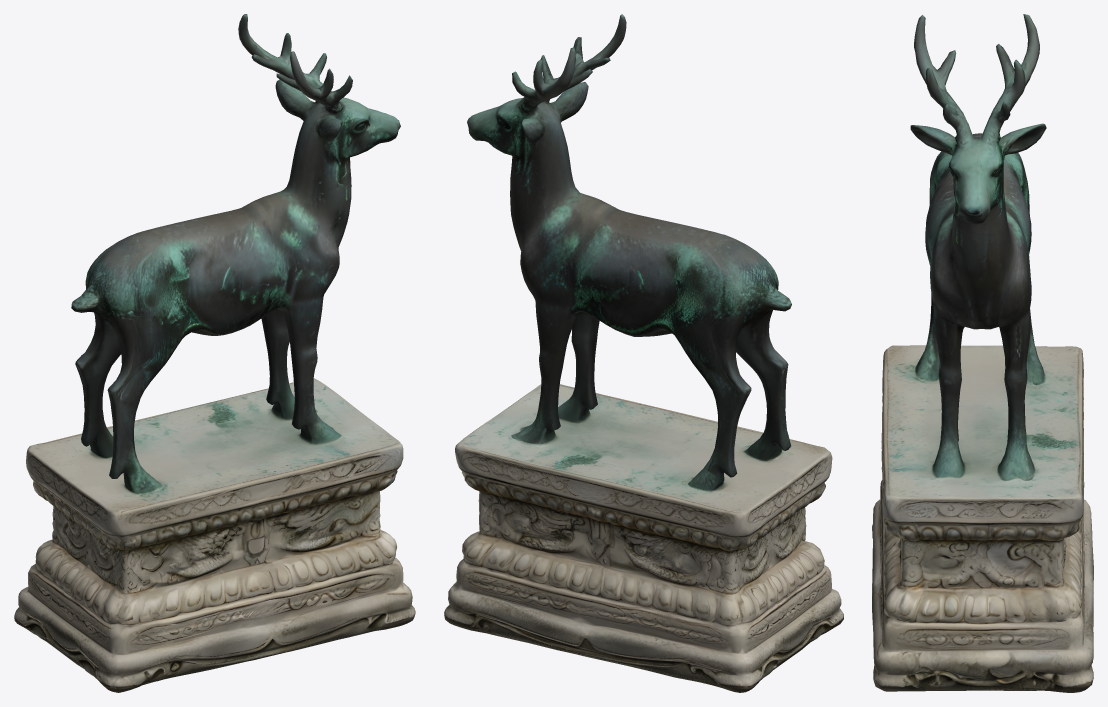
File: tonglu.glb
3 renders of one model, left to right at view 1: azimuth 30°, elevation 25°; view 2: azimuth 150°, elevation 25°; view 3: azimuth 270°, elevation 25°, orthographic. The views are drawn at different scales.
Parts seen in each view (by area): view 1: tripo_node_c07f5152-0721-45e2-b4ed-7415a6b1ceb4; view 2: tripo_node_c07f5152-0721-45e2-b4ed-7415a6b1ceb4; view 3: tripo_node_c07f5152-0721-45e2-b4ed-7415a6b1ceb4.
Boxes of the visible parts, <box> form: tripo_node_c07f5152-0721-45e2-b4ed-7415a6b1ceb4: <box>14,14,415,692</box>; tripo_node_c07f5152-0721-45e2-b4ed-7415a6b1ceb4: <box>444,14,843,692</box>; tripo_node_c07f5152-0721-45e2-b4ed-7415a6b1ceb4: <box>872,14,1093,692</box>.
Bounding box in the file's own units: 0.5928 × 0.9993 × 0.3176.
1 material, 1 textured.
